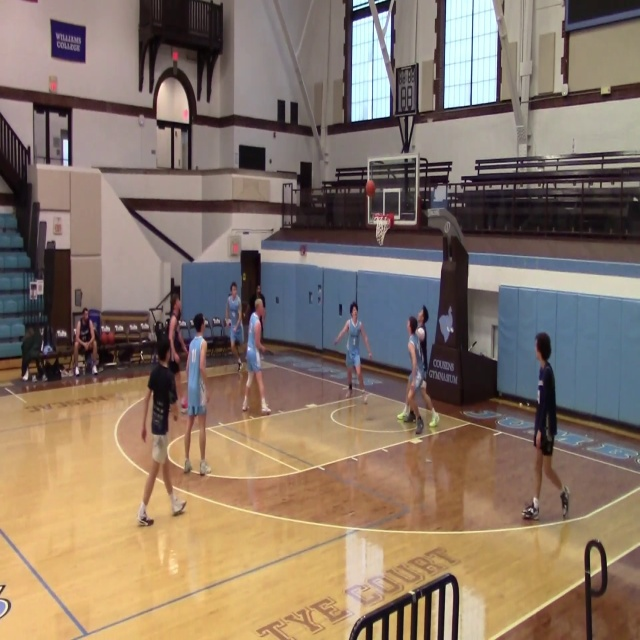Basketball: (365, 180, 375, 196), (180, 395, 188, 410)
